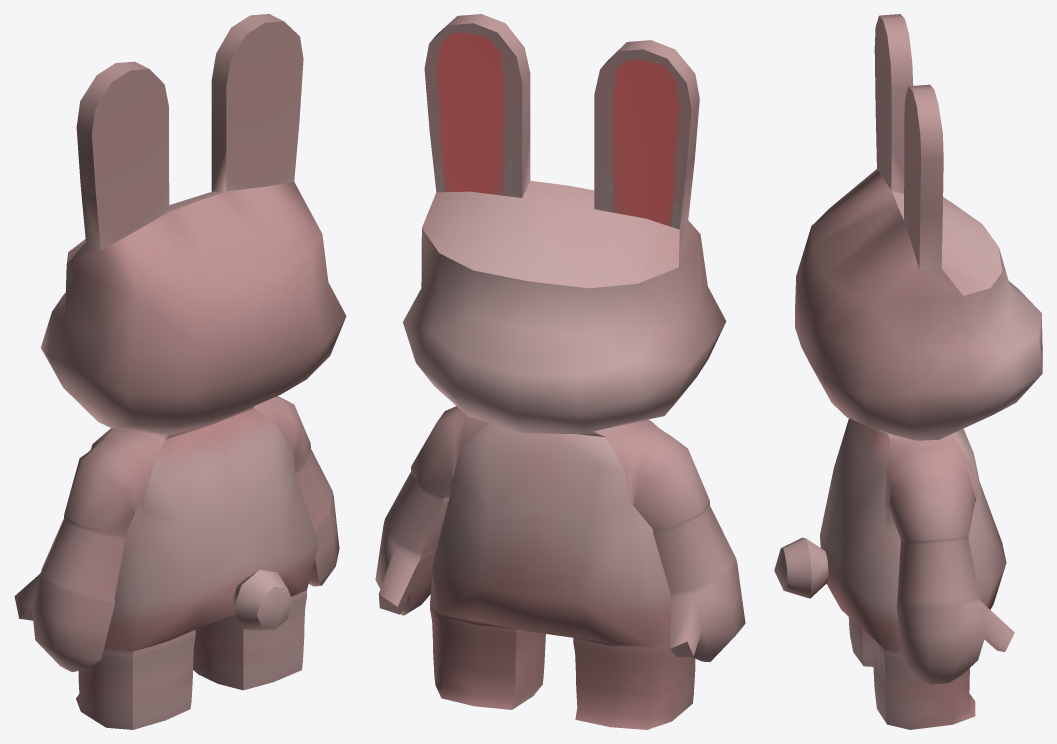
3 renders of one model, left to right at view 1: azimuth 30°, elevation 25°; view 2: azimuth 150°, elevation 25°; view 3: azimuth 270°, elevation 25°, orthographic. The views are drawn at different scales.
Visible parts, largest first — view 1: Rb_B2; view 2: Rb_B2; view 3: Rb_B2.
Boxes of the visible parts, <box> form: Rb_B2: <box>14,14,346,729</box>; Rb_B2: <box>375,14,745,729</box>; Rb_B2: <box>774,14,1042,729</box>.
Bounding box in the file's own units: 6 × 11.45 × 4.48.
